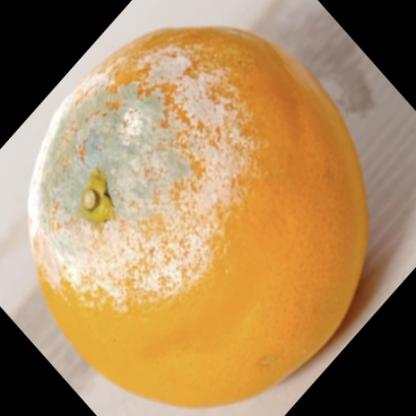rotten: (30, 28, 368, 407)
